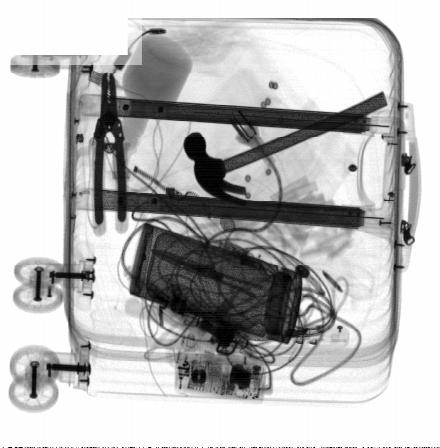Hammer: (183, 92, 388, 207)
Knife: (126, 297, 283, 343)
Pliers: (90, 71, 131, 236)
Scissors: (150, 248, 269, 314)
